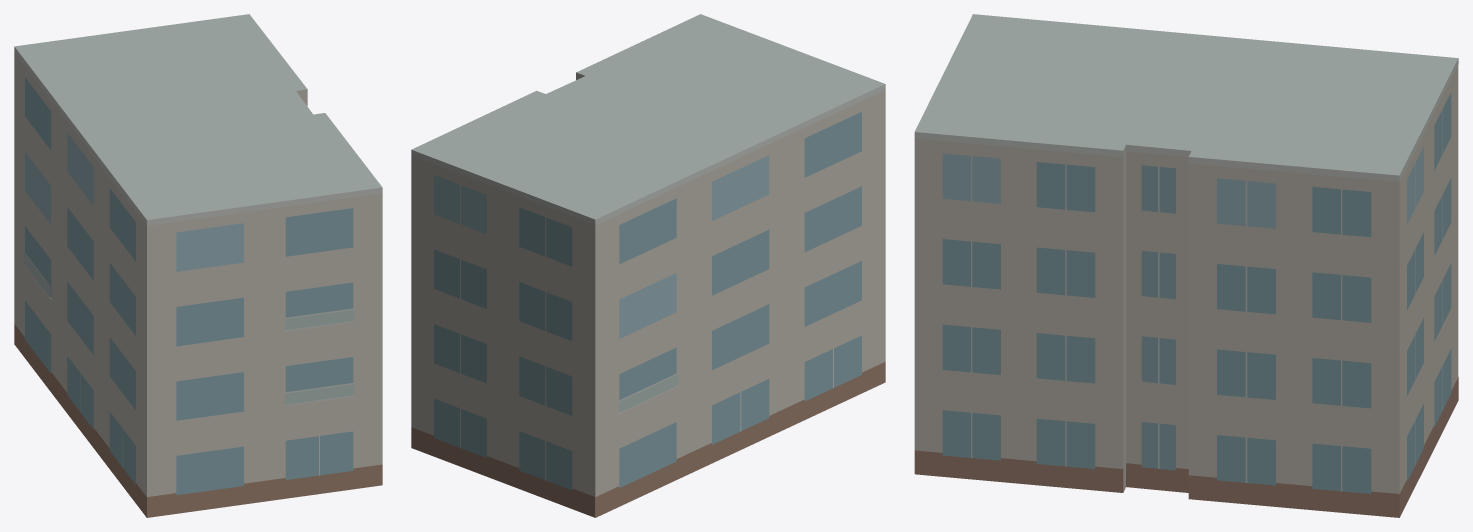
Rendered from survey-upis-32652838.glb.
3 renders of one model, left to right at view 1: azimuth 30°, elevation 25°; view 2: azimuth 150°, elevation 25°; view 3: azimuth 270°, elevation 25°, orthographic. The views are drawn at different scales.
Parts seen in each view (by area): view 1: survey-upis-32652838.tmp; view 2: survey-upis-32652838.tmp; view 3: survey-upis-32652838.tmp.
Part boxes in pixels (x1,y1,x2,y2): survey-upis-32652838.tmp: (14, 14, 382, 517); survey-upis-32652838.tmp: (411, 14, 885, 517); survey-upis-32652838.tmp: (914, 14, 1458, 517).
Size of the model in its own units: 12.97 by 12.8 by 18.44.
